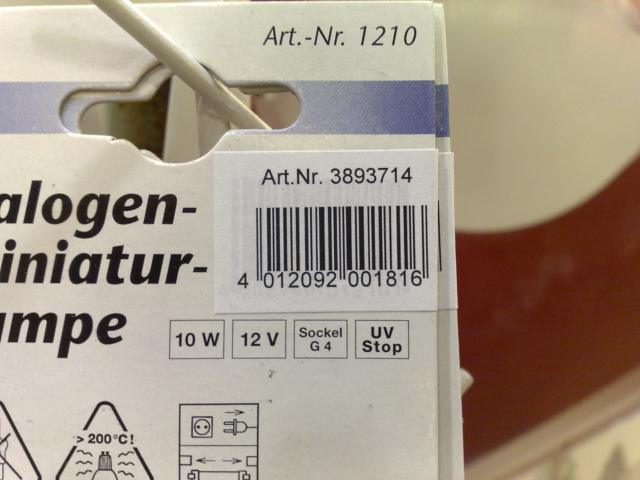Barcode: (227, 195, 435, 299)
